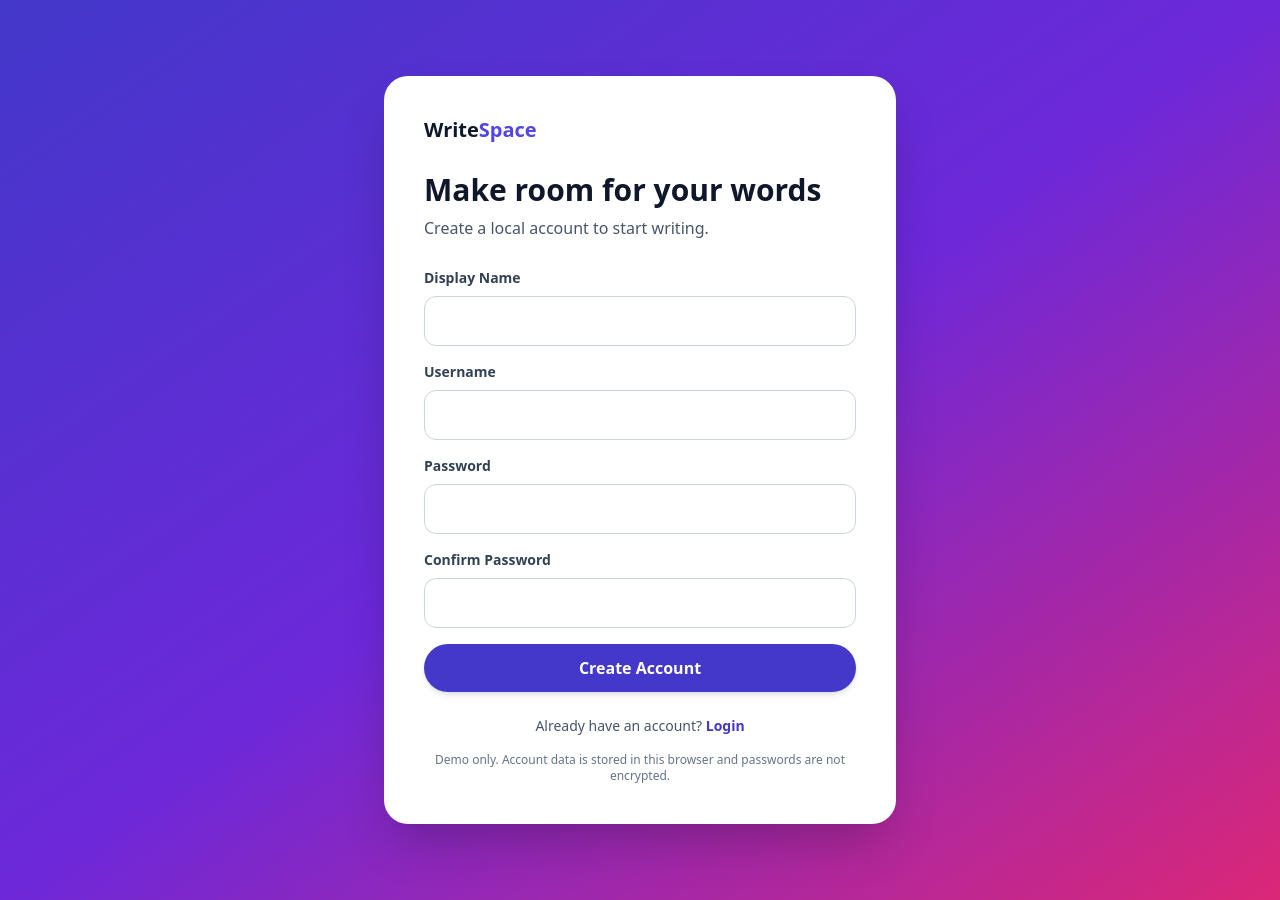
public and identity pages › shows field-level registration errors for missing values
Click the button "Create Account".
click(640, 668)  # box [424,644,856,692]
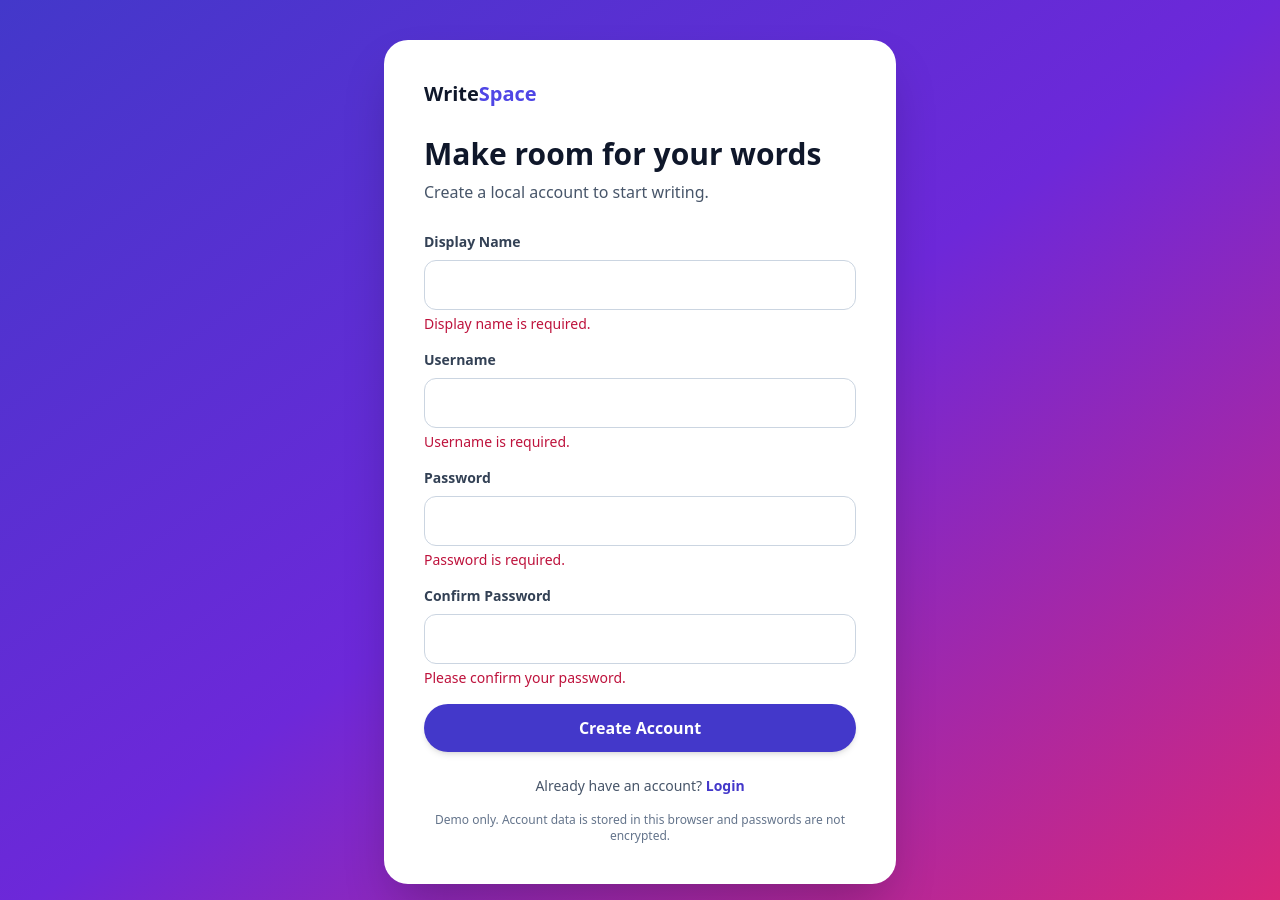
Now the text "Display name is required." is shown, box [424,314,590,333]
Now the text "Username is required." is shown, box [424,432,570,451]
Now the text "Password is required." is shown, box [424,550,565,569]
